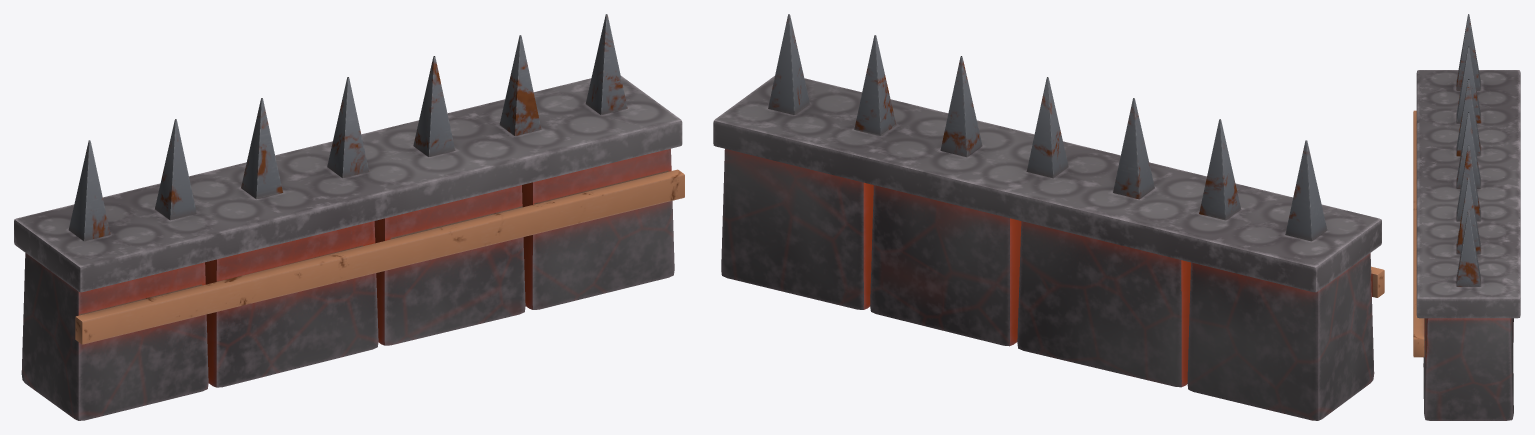
File: Volcan_Rempart.fbx
3 renders of one model, left to right at view 1: azimuth 30°, elevation 25°; view 2: azimuth 150°, elevation 25°; view 3: azimuth 270°, elevation 25°, orthographic. The views are drawn at different scales.
Visible parts, largest first — view 1: Volcan_Rempart; view 2: Volcan_Rempart; view 3: Volcan_Rempart.
Part boxes in pixels (left/top/right/bottom): Volcan_Rempart: left=14, top=14, right=684, bottom=420; Volcan_Rempart: left=713, top=14, right=1384, bottom=420; Volcan_Rempart: left=1413, top=14, right=1520, bottom=420.
Bounding box in the file's own units: 1200 × 480 × 238.
1 material, 1 textured.
